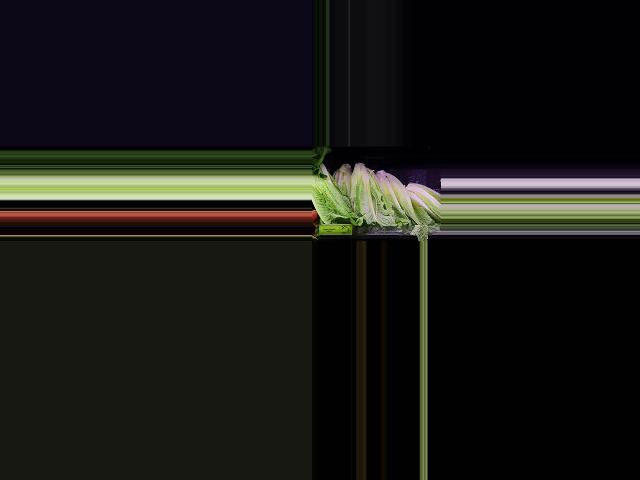lettuce: (403, 181, 441, 222)
